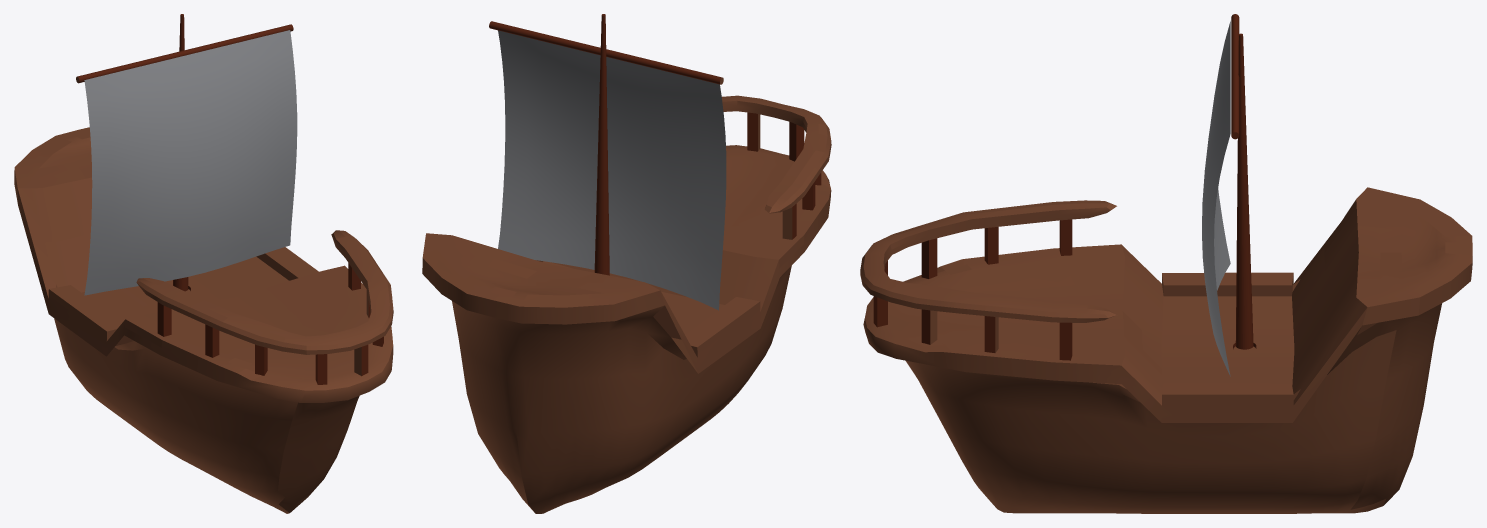
File: statek.fbx
The picture shows the model from 3 angles, left to right: view 1: azimuth 30°, elevation 25°; view 2: azimuth 150°, elevation 25°; view 3: azimuth 270°, elevation 25°; orthographic projection. The views are drawn at different scales.
Visible parts, largest first — view 1: Walec; view 2: Walec; view 3: Walec.
Part boxes in pixels (x1=…): Walec: x1=14, y1=14, x2=393, y2=513; Walec: x1=422, y1=14, x2=831, y2=513; Walec: x1=860, y1=14, x2=1472, y2=513.
Bounding box in the file's own units: 678 × 1238 × 1435.
